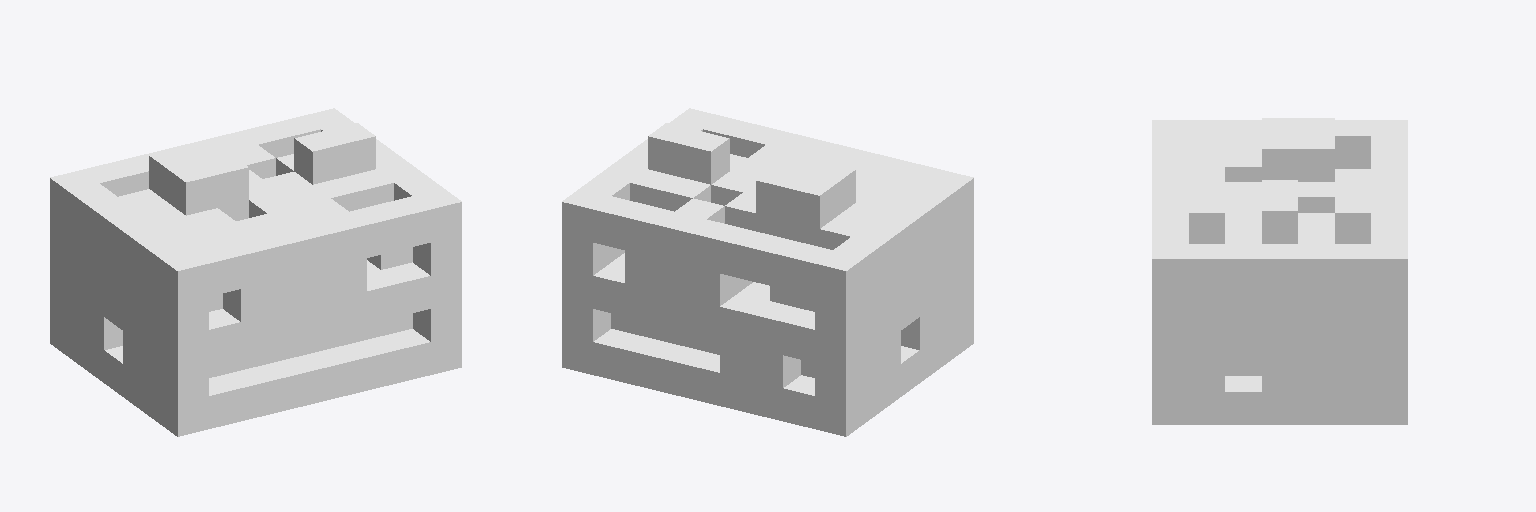
Rendered from box_blue.vox.obj.
The picture shows the model from 3 angles: view 1: azimuth 30°, elevation 25°; view 2: azimuth 150°, elevation 25°; view 3: azimuth 270°, elevation 25°; orthographic projection.
Visible parts, largest first — view 1: object 1; view 2: object 1; view 3: object 1.
Boxes of the visible parts, box(x1,y1,x2,y2) form: object 1: box(50, 108, 461, 436); object 1: box(562, 108, 973, 436); object 1: box(1152, 118, 1407, 424).
Bounding box in the file's own units: 0.9 × 0.6 × 0.7.